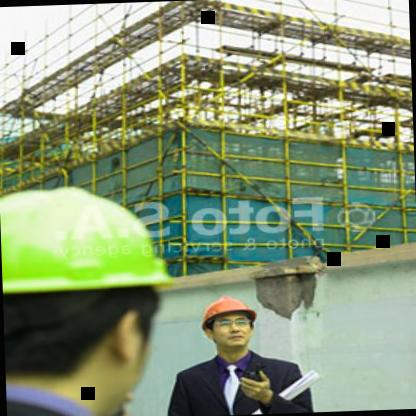helmet: (0, 150, 199, 416), (192, 286, 265, 357)
